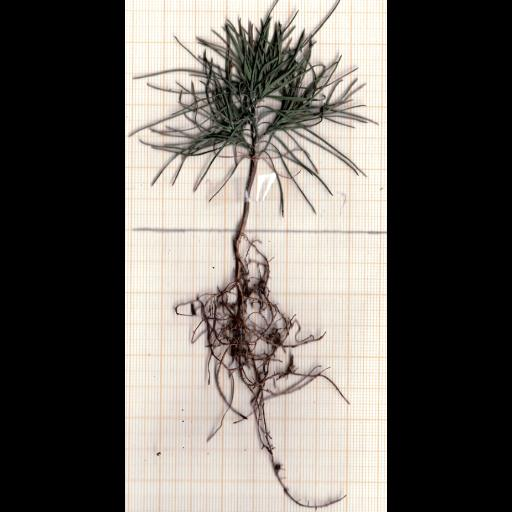flowerCedr: (136, 0, 369, 200)
rootCedr: (175, 237, 349, 511)
stemCedr: (233, 155, 259, 254)
